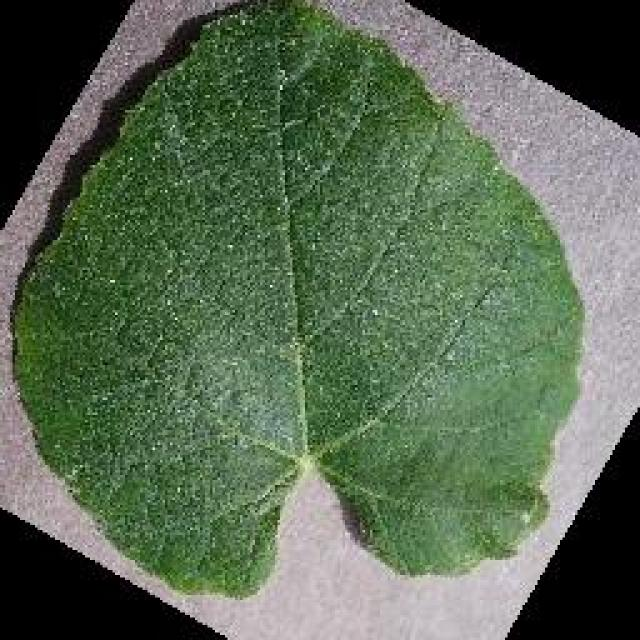Grape___healthy: (15, 0, 580, 595)
